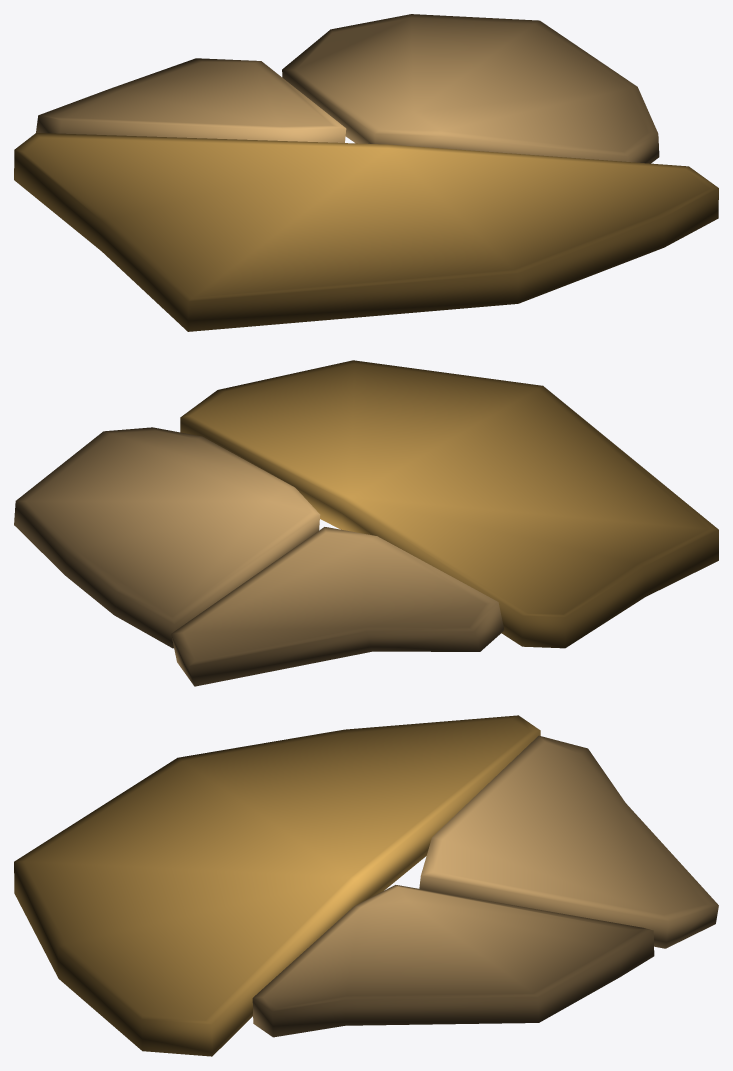
File: 53_Farm.fbx
The picture shows the model from 3 angles, top to bottom: view 1: azimuth 30°, elevation 25°; view 2: azimuth 150°, elevation 25°; view 3: azimuth 270°, elevation 25°; orthographic projection. The views are drawn at different scales.
Visible parts, largest first — view 1: Farm; view 2: Farm; view 3: Farm.
Part boxes in pixels (<box>): Farm: <box>14,14,718,331</box>; Farm: <box>14,360,718,686</box>; Farm: <box>14,715,718,1056</box>.
Bounding box in the file's own units: 155 × 21.28 × 166.
